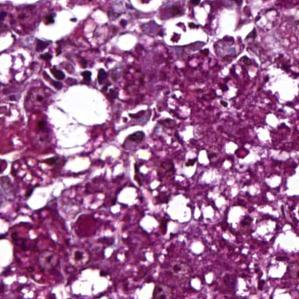ballooning: (44, 83, 113, 158)
